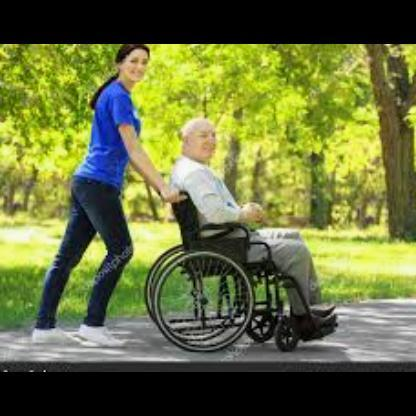push_wheelchair: (33, 44, 180, 347)
wheelchair: (144, 119, 339, 352)
